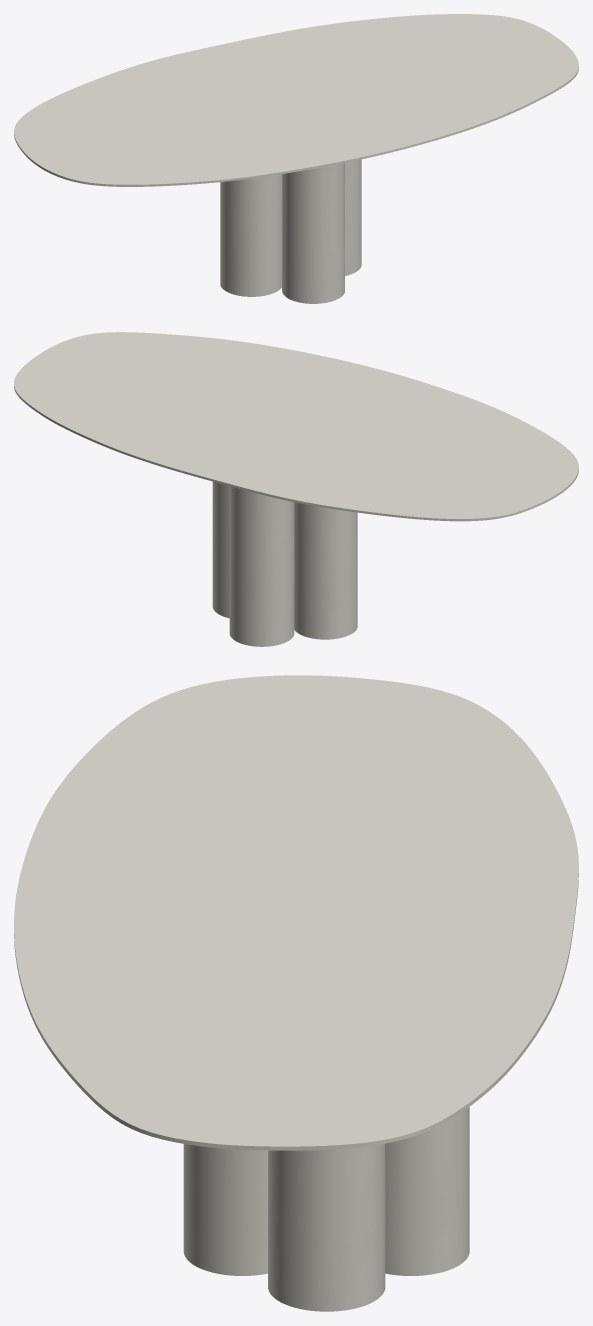
The model's file is pale_danish_facet_secondtable.glb.
The picture shows the model from 3 angles, top to bottom: view 1: azimuth 30°, elevation 25°; view 2: azimuth 150°, elevation 25°; view 3: azimuth 270°, elevation 25°; orthographic projection. The views are drawn at different scales.
Parts seen in each view (by area): view 1: facet_danish, secondtable; view 2: facet_danish, secondtable; view 3: facet_danish, secondtable.
Part boxes in pixels (x1,y1,x2,y2): facet_danish: (14, 14, 578, 186); secondtable: (220, 159, 361, 303); facet_danish: (14, 332, 578, 521); secondtable: (212, 481, 357, 646); facet_danish: (14, 675, 578, 1150); secondtable: (183, 1107, 469, 1311).
Bounding box in the file's own units: 7.5 × 2.5 × 3.8.
1 material, 1 textured.
